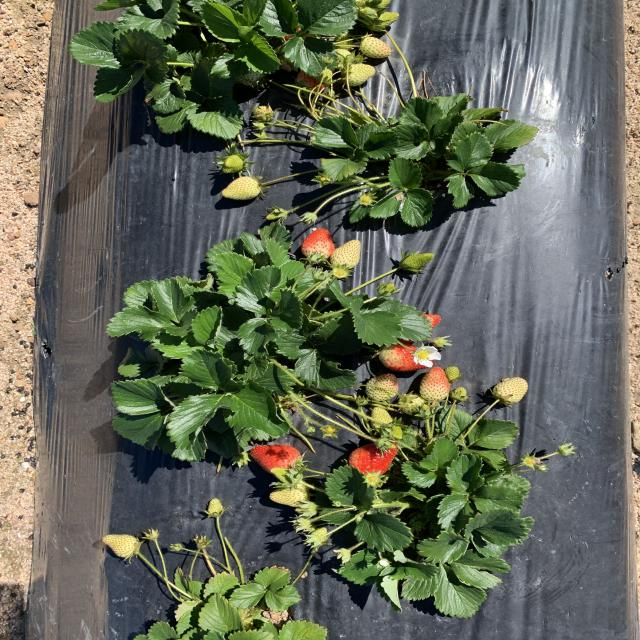unripe: (248, 440, 308, 476), (343, 441, 401, 478), (380, 341, 437, 371), (389, 314, 441, 342), (299, 227, 334, 263)
